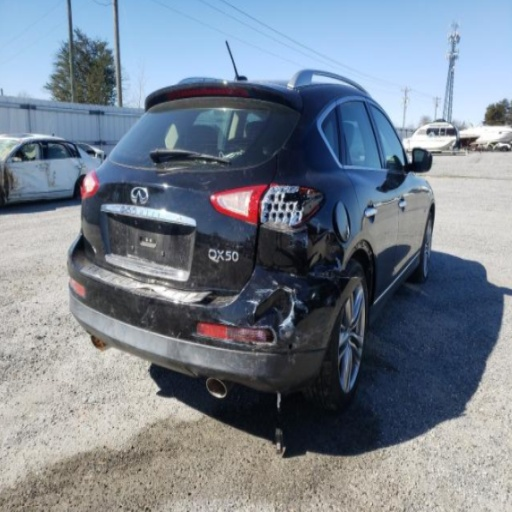dent: (247, 223, 349, 353)
scratch: (168, 337, 300, 384), (244, 277, 310, 339), (140, 302, 221, 343), (195, 329, 328, 353)
